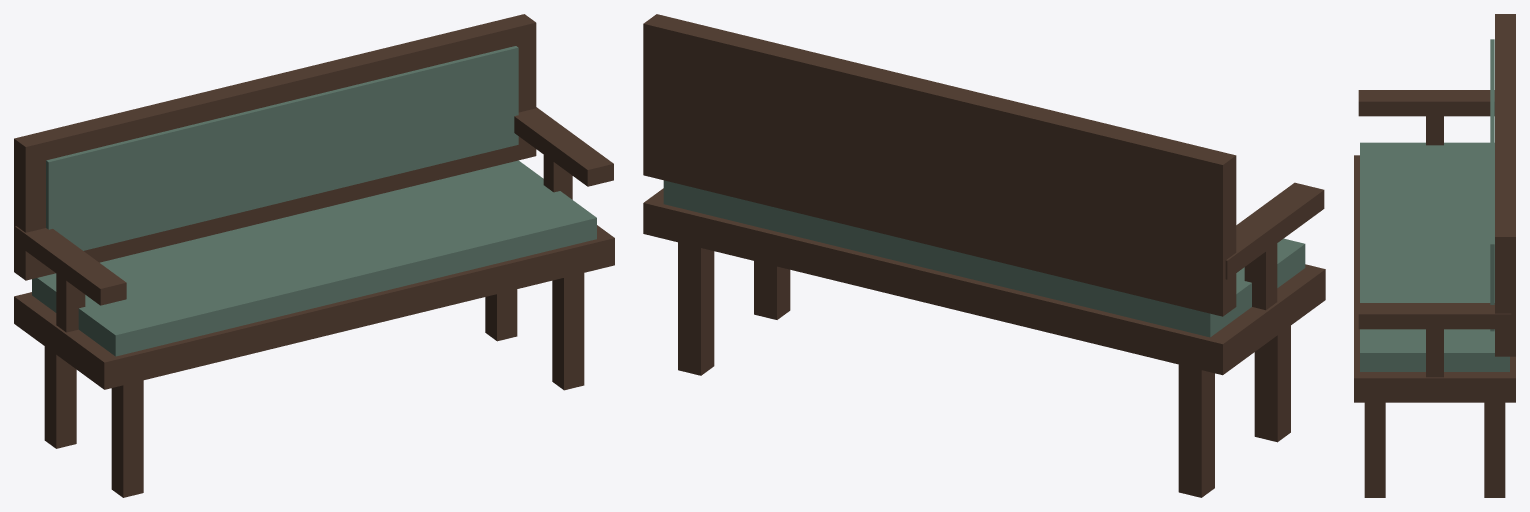
File: LP_Central_BenchSE.fbx
The picture shows the model from 3 angles, left to right: view 1: azimuth 30°, elevation 25°; view 2: azimuth 150°, elevation 25°; view 3: azimuth 270°, elevation 25°; orthographic projection. The views are drawn at different scales.
Parts seen in each view (by area): view 1: SageUpholstery, Walnut; view 2: Walnut, SageUpholstery; view 3: SageUpholstery, Walnut.
Part boxes in pixels (x1,y1,x2,y2): SageUpholstery: (32,46,596,356); Walnut: (14,14,614,497); Walnut: (643,14,1325,497); SageUpholstery: (663,180,1305,337); SageUpholstery: (1360,39,1509,371); Walnut: (1354,14,1515,497).
Size of the model in its own units: 177 by 100 by 54.
